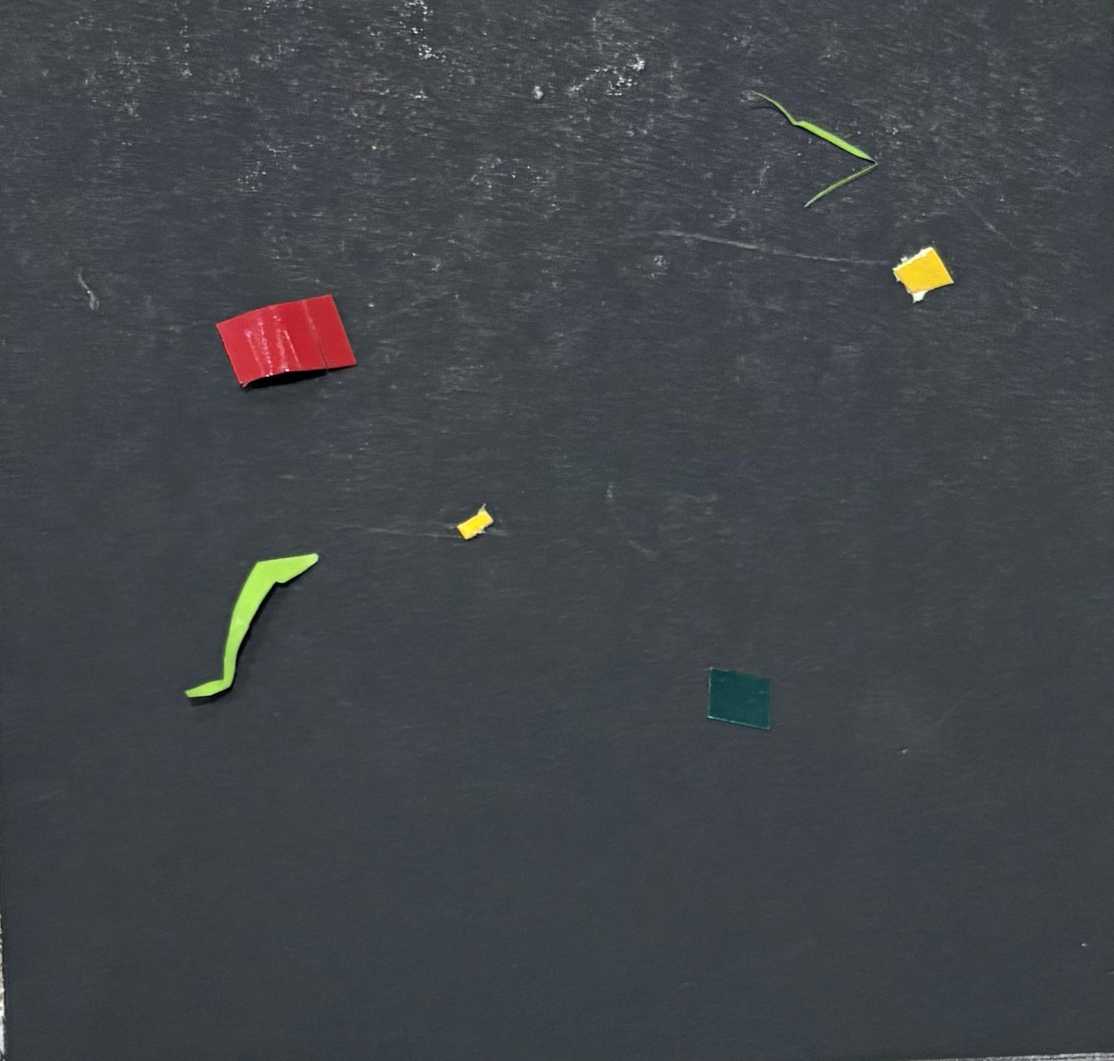Microplastic Particle: (170, 522, 336, 705), (739, 79, 890, 211), (203, 284, 361, 390), (691, 657, 784, 742), (894, 245, 958, 307), (456, 491, 498, 556)
